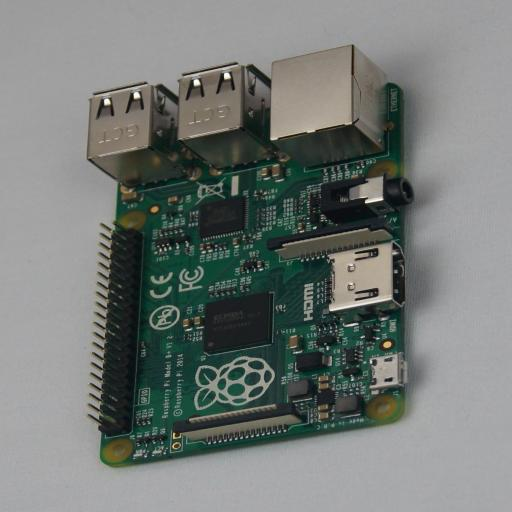Raspberry Pi 1 B-: (87, 44, 424, 468)
